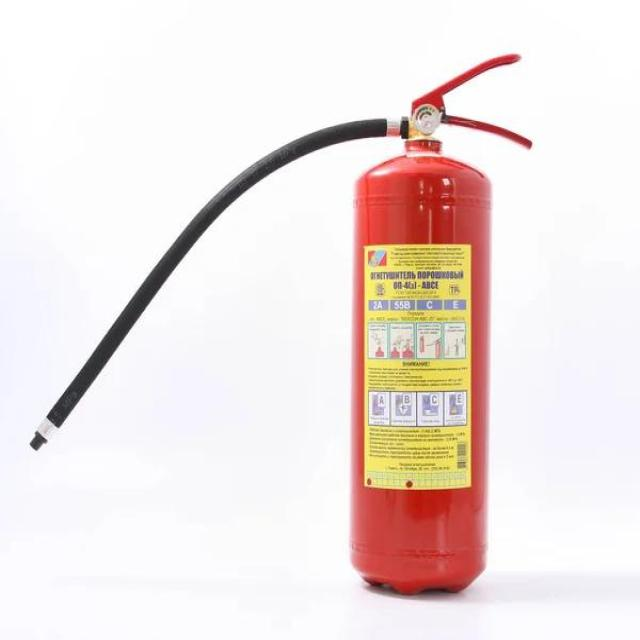fire_extinguisher: (20, 48, 537, 599)
